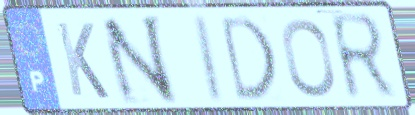D: (217, 13, 280, 105)
I: (193, 12, 228, 106)
K: (53, 19, 113, 102)
N: (98, 12, 180, 108)
O: (279, 16, 338, 100)
R: (326, 9, 400, 105)
